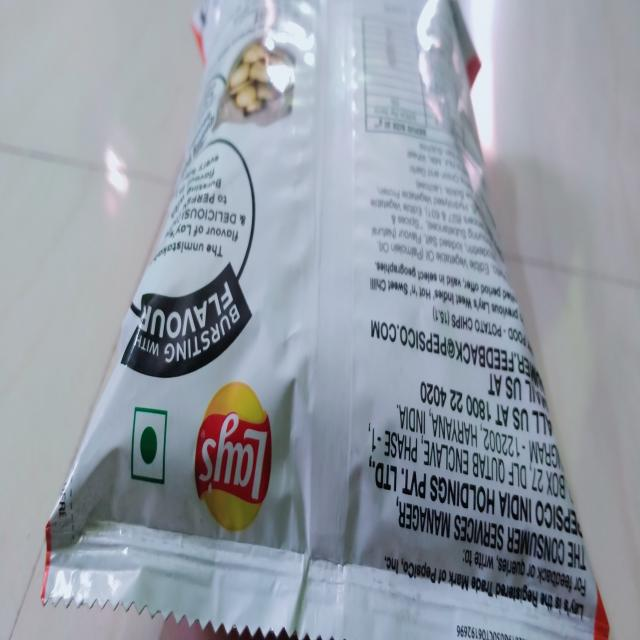lays: (41, 0, 604, 640)
